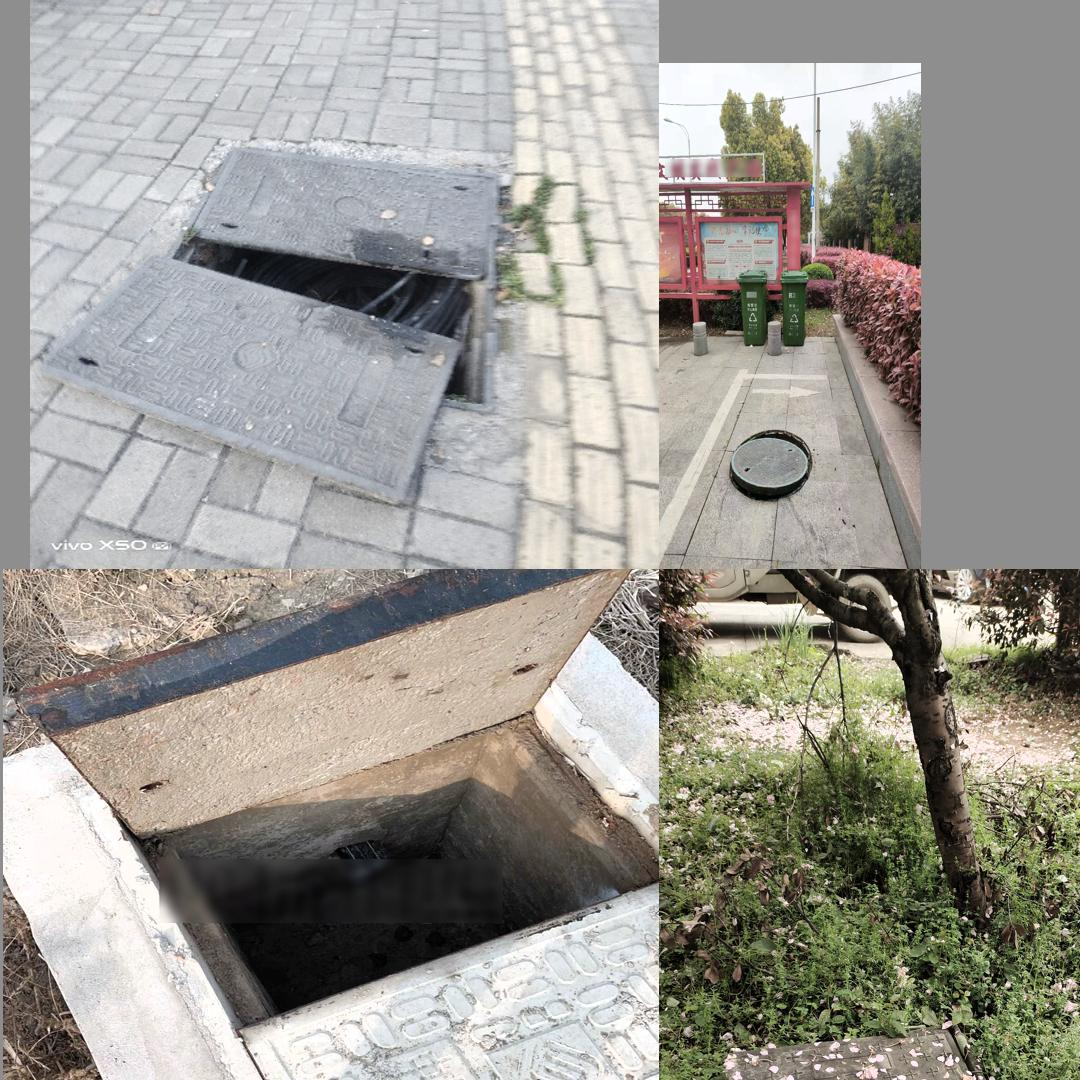uncovered: (9, 570, 659, 1080), (44, 142, 501, 513), (720, 1021, 1041, 1080), (729, 429, 813, 501)
